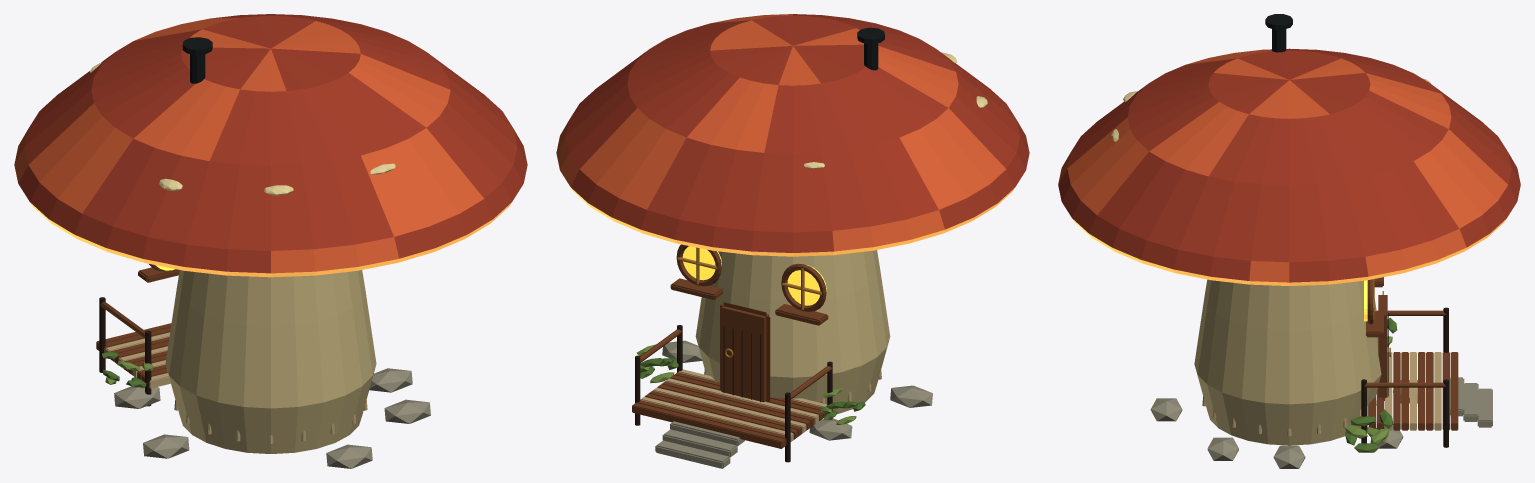
Rendered from mushroom_0.glb.
The picture shows the model from 3 angles, left to right: view 1: azimuth 30°, elevation 25°; view 2: azimuth 150°, elevation 25°; view 3: azimuth 270°, elevation 25°; orthographic projection. The views are drawn at different scales.
Parts seen in each view (by area): view 1: Fernbell homeMesh; view 2: Fernbell homeMesh; view 3: Fernbell homeMesh.
Boxes of the visible parts, x1=… form: Fernbell homeMesh: x1=14, y1=14, x2=527, y2=468; Fernbell homeMesh: x1=556, y1=14, x2=1029, y2=468; Fernbell homeMesh: x1=1058, y1=14, x2=1520, y2=468.
Size of the model in its own units: 9 by 7.71 by 9.
